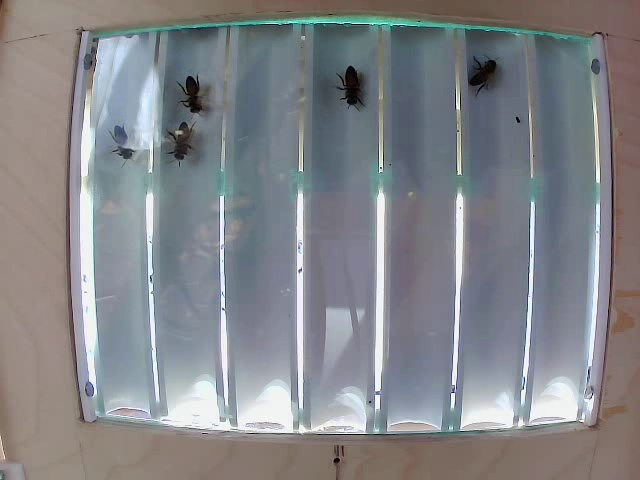bee: (464, 51, 519, 96), (92, 125, 143, 164), (170, 117, 205, 170), (341, 60, 367, 121), (182, 71, 220, 108)
